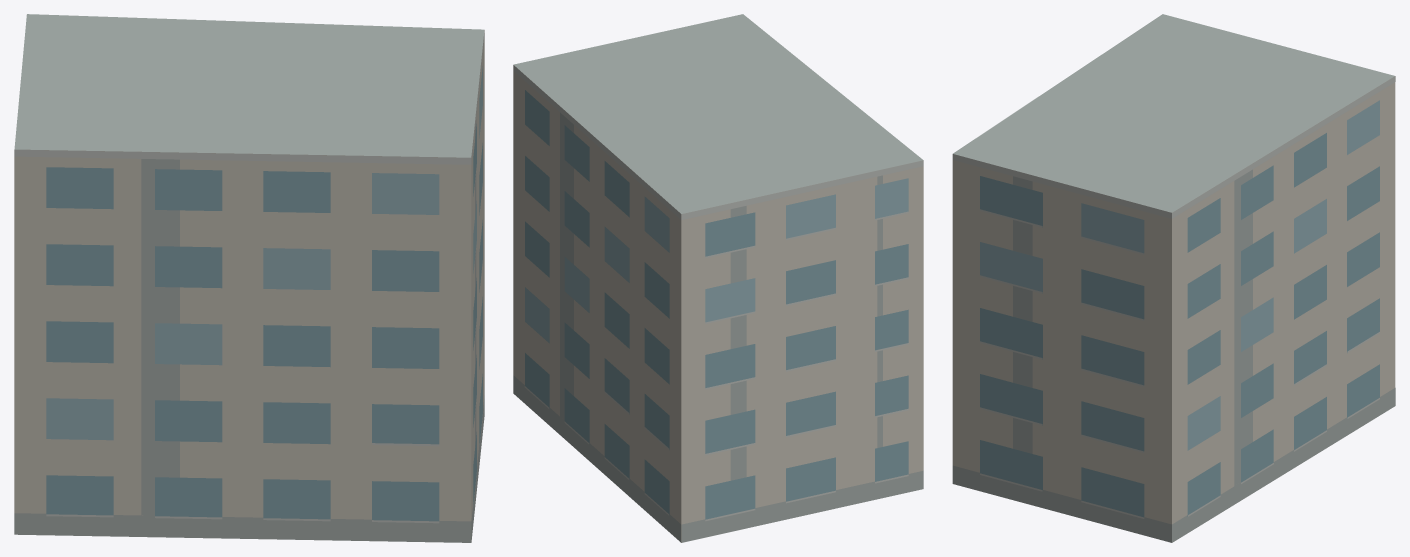
The model's file is survey-upis-32989239.glb.
The picture shows the model from 3 angles, left to right: view 1: azimuth 30°, elevation 25°; view 2: azimuth 150°, elevation 25°; view 3: azimuth 270°, elevation 25°; orthographic projection. The views are drawn at different scales.
Parts seen in each view (by area): view 1: survey-upis-32989239.tmp; view 2: survey-upis-32989239.tmp; view 3: survey-upis-32989239.tmp.
Boxes of the visible parts, bbox=[...] form: survey-upis-32989239.tmp: bbox=[14, 14, 484, 542]; survey-upis-32989239.tmp: bbox=[513, 14, 923, 542]; survey-upis-32989239.tmp: bbox=[952, 14, 1395, 542].
Size of the model in its own units: 17.06 by 13.2 by 16.06.
